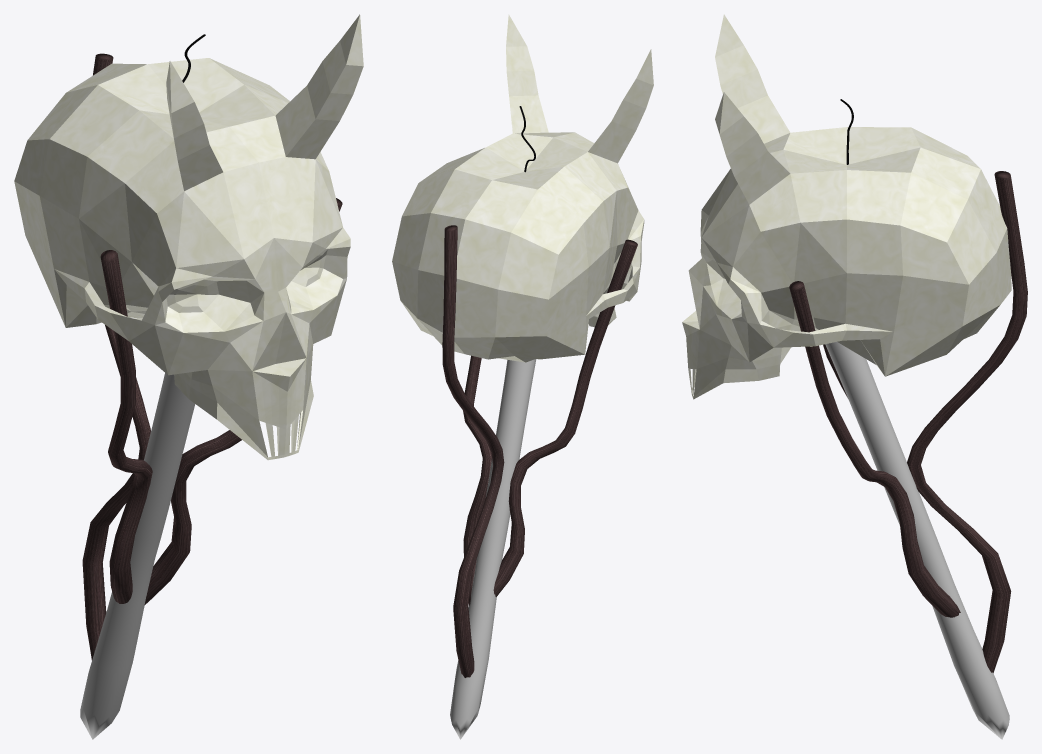
File: skulltorchhorns_updated.fbx
3 renders of one model, left to right at view 1: azimuth 30°, elevation 25°; view 2: azimuth 150°, elevation 25°; view 3: azimuth 270°, elevation 25°, orthographic. The views are drawn at different scales.
Parts seen in each view (by area): view 1: Skull.001, pole, Twine.002, Twine.001; view 2: Skull.001, pole, Twine.002, Twine.001; view 3: Skull.001, pole, Twine.001, Twine.002.
Part boxes in pixels (x1,y1,x2,y2): Skull.001: (14,14,363,460); pole: (80,373,195,739); Twine.002: (100,198,342,604); Twine.001: (82,53,150,659); Skull.001: (392,14,653,362); pole: (450,359,536,739); Twine.002: (463,239,637,605); Twine.001: (442,225,504,677); Skull.001: (682,14,1011,399); pole: (825,342,1009,739); Twine.001: (907,171,1027,673); Twine.002: (789,281,960,617).
Bounding box in the file's own units: 137 × 451 × 205.
